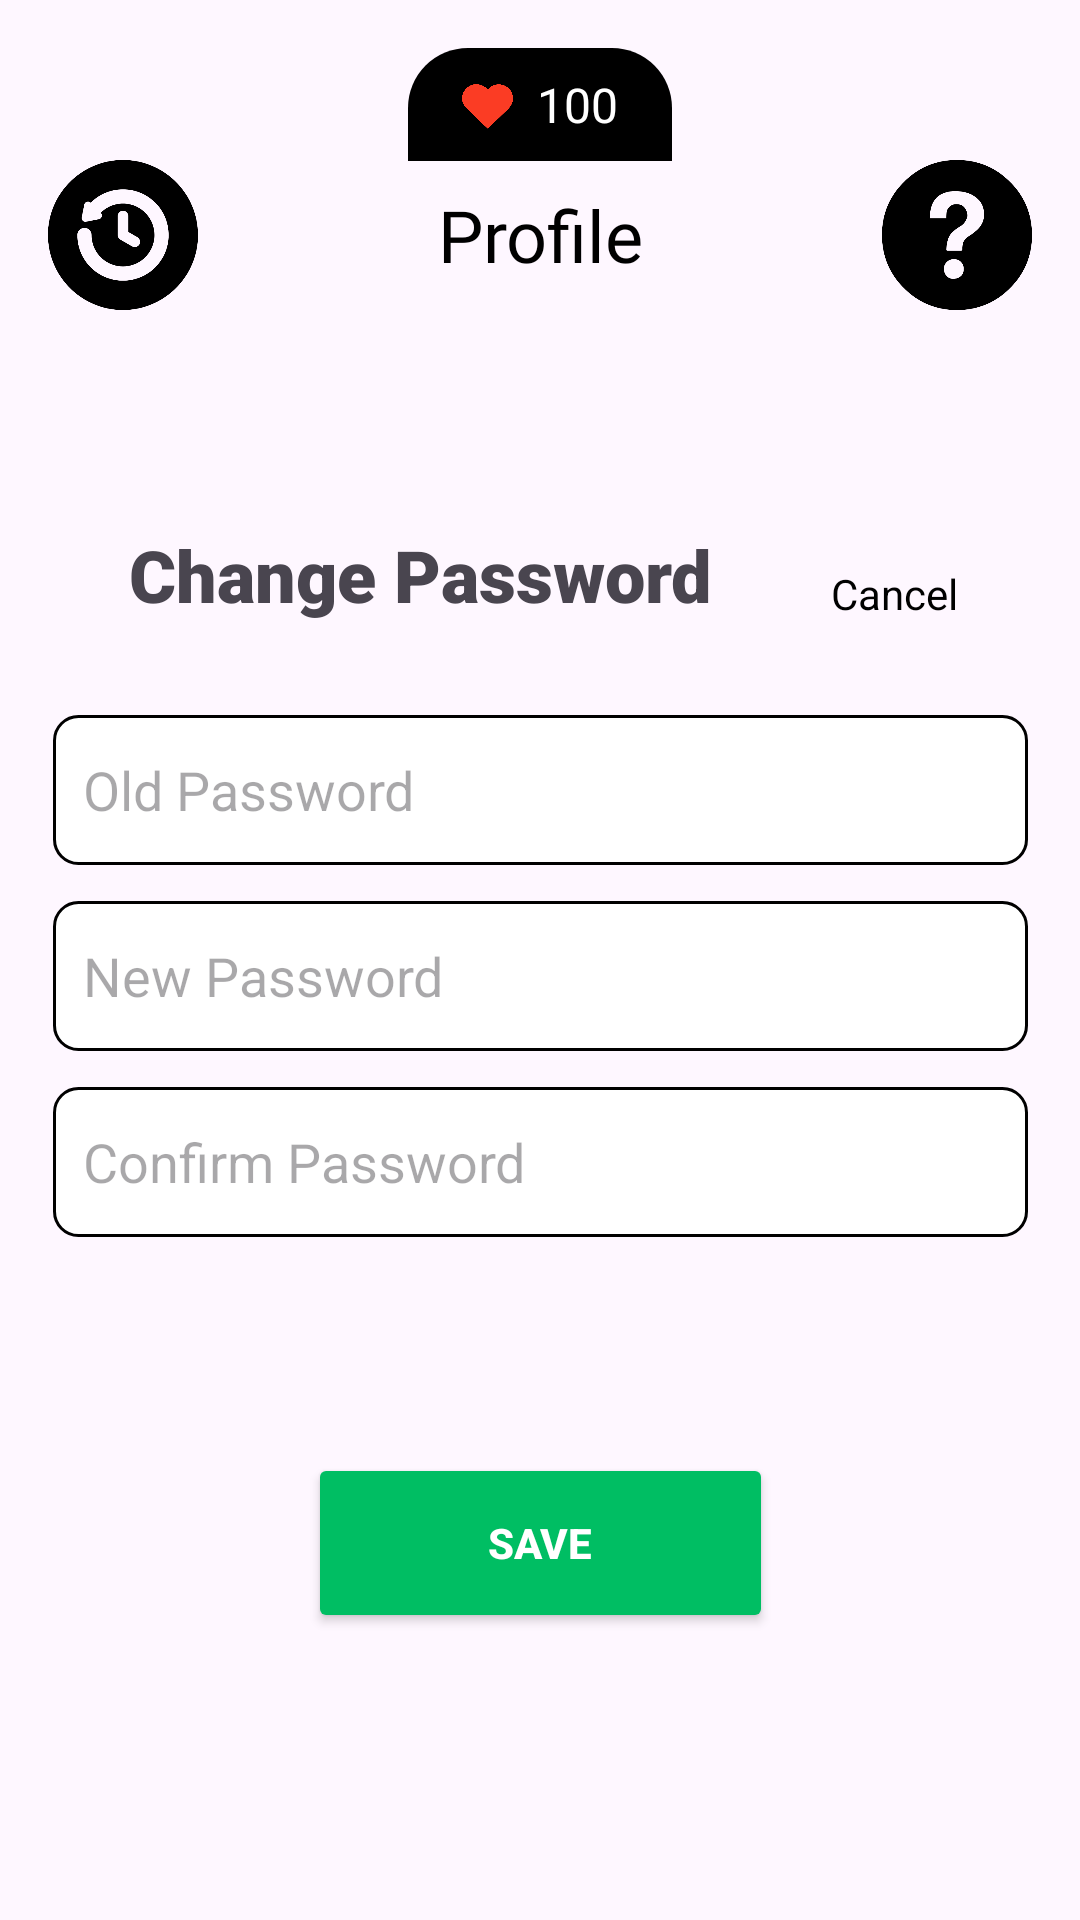

Icons on this 1080x1920 Android screen, each with the point to tap as point (x, y):
Heart Icon: point (487, 106)
Help Icon: point (957, 235)
History Icon: point (123, 235)
